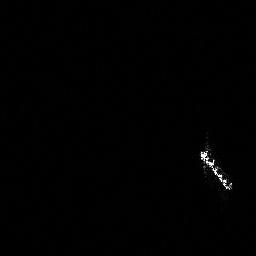ship: (198, 134, 235, 193)
